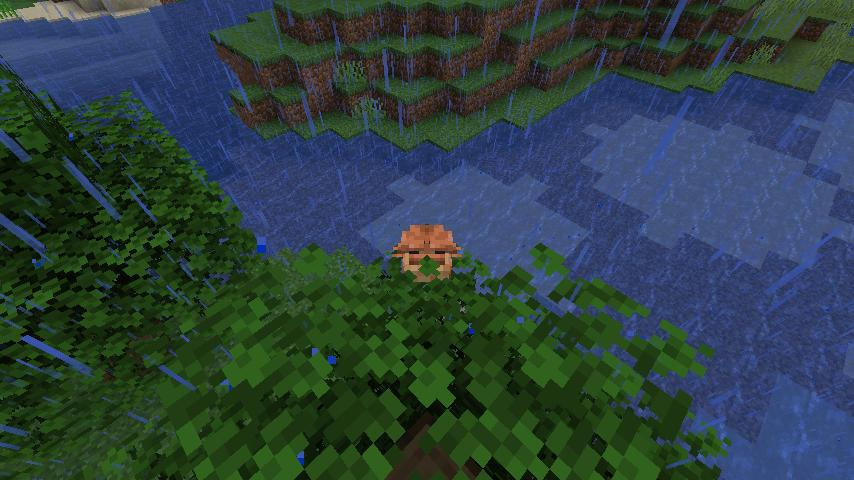frog: (391, 219, 468, 284)
